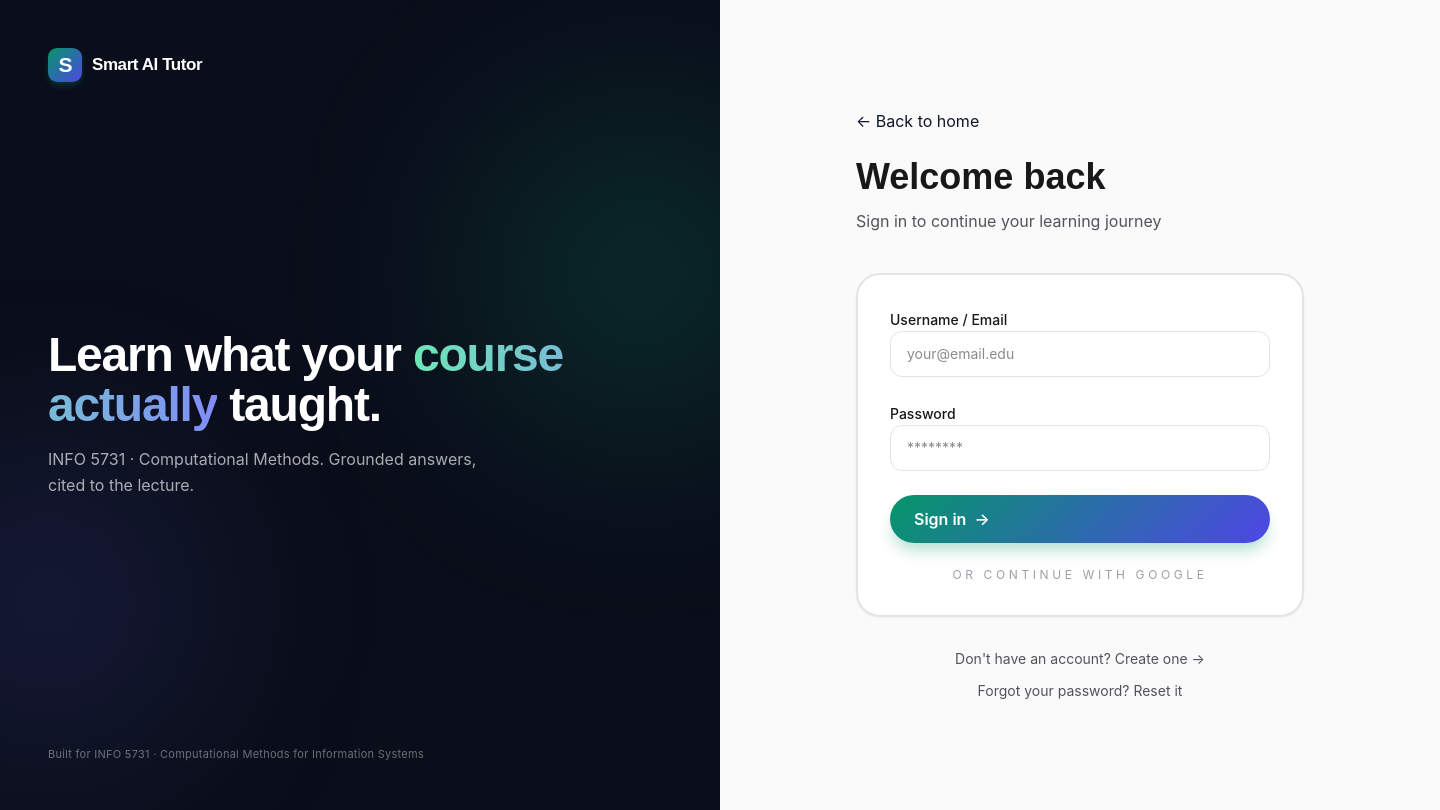
LoginPage › displays an error message when login fails
This screenshot has width=1440, height=810.
Type "wrong" into the field labelled "Username / Email" at (1080, 354), box [890, 331, 1270, 377]
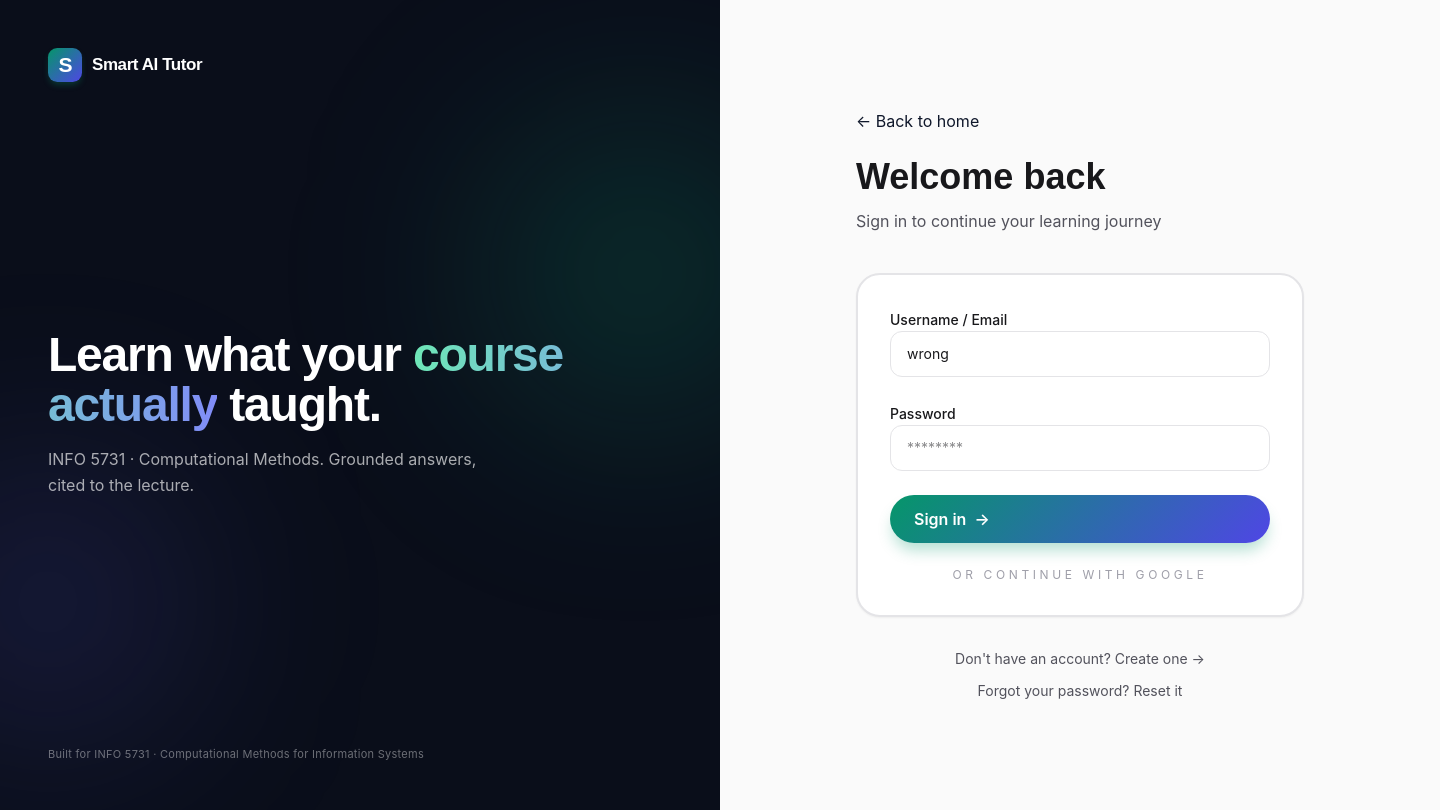
Type "wrong" into the password field labelled "Password" at (1080, 448), box [890, 425, 1270, 471]
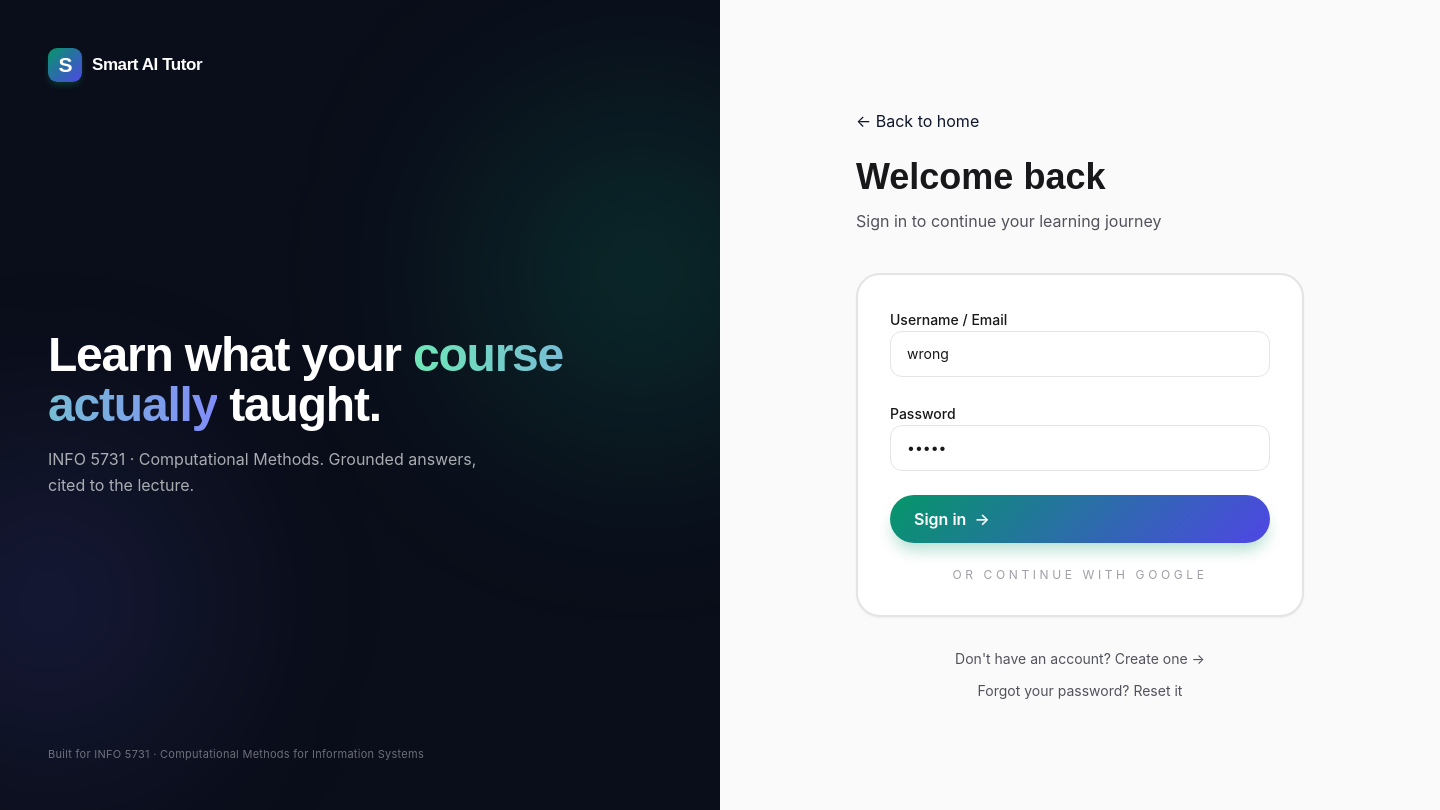
Submit the form, box [856, 273, 1304, 617]
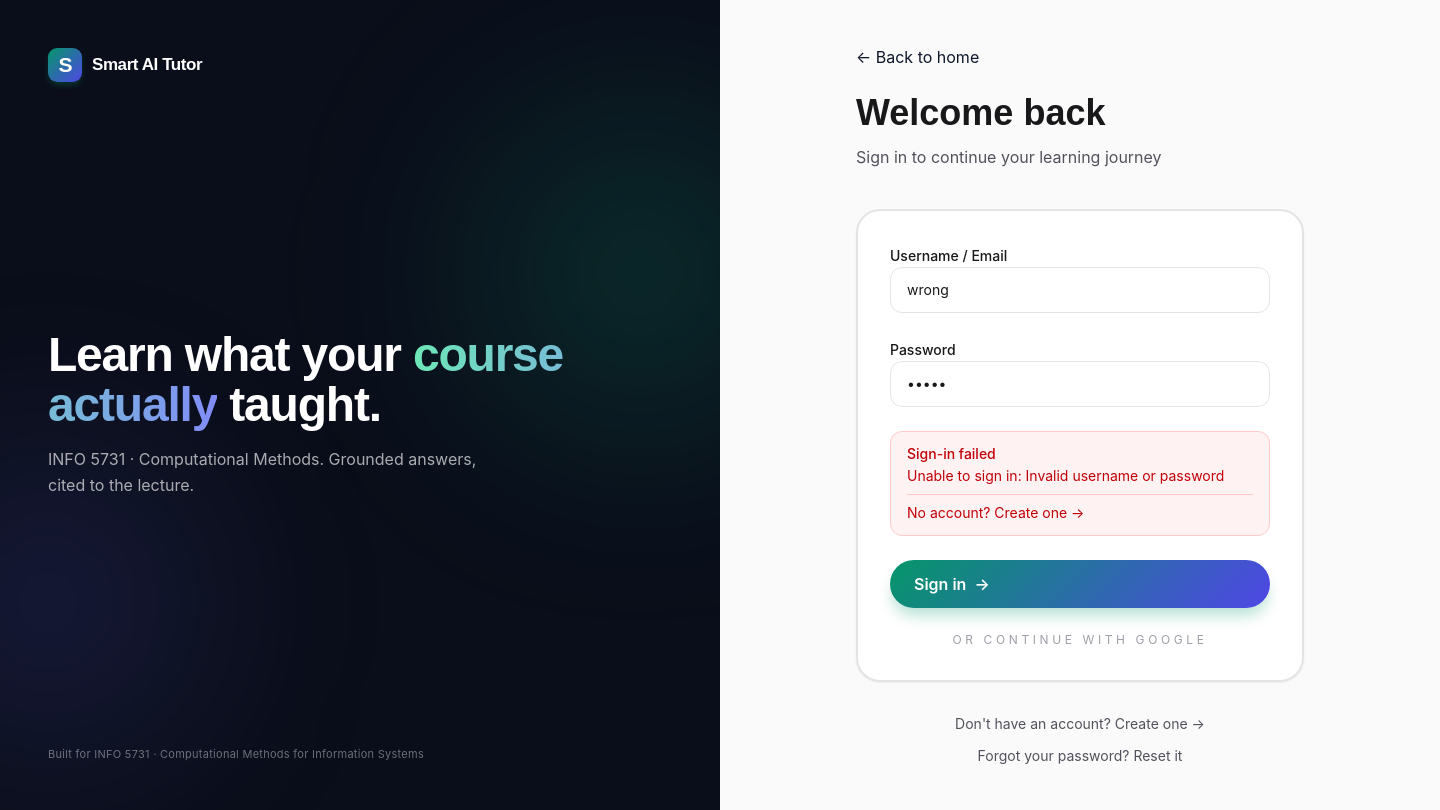
Expected: the text "Unable to sign in: Invalid username or password" is shown, [907, 466, 1253, 486]
